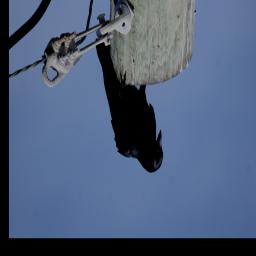Crow: (95, 36, 164, 173)
